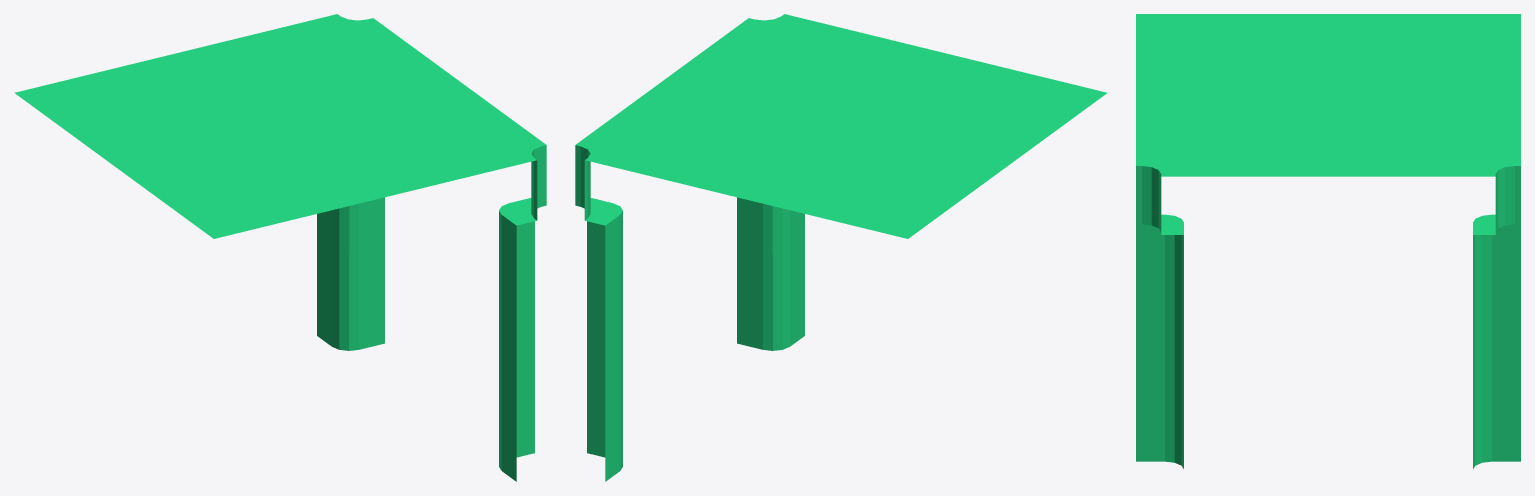
The model's file is Block_Top_T.fbx.
3 renders of one model, left to right at view 1: azimuth 30°, elevation 25°; view 2: azimuth 150°, elevation 25°; view 3: azimuth 270°, elevation 25°, orthographic. The views are drawn at different scales.
Visible parts, largest first — view 1: Block_Top_Corner_T; view 2: Block_Top_Corner_T; view 3: Block_Top_Corner_T.
Part boxes in pixels (x1=…): Block_Top_Corner_T: x1=14, y1=14, x2=546, y2=481; Block_Top_Corner_T: x1=575, y1=14, x2=1107, y2=481; Block_Top_Corner_T: x1=1136, y1=14, x2=1520, y2=468.
Size of the model in its own units: 200 by 175 by 200.
